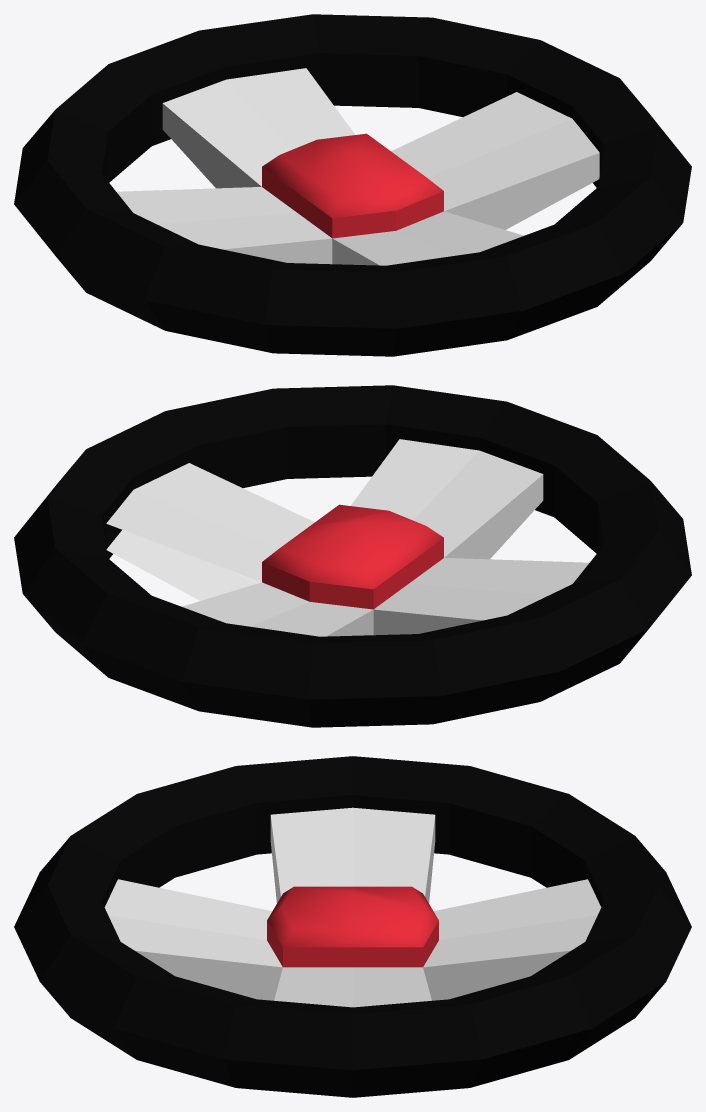
Rendered from steering.fbx.
The picture shows the model from 3 angles, top to bottom: view 1: azimuth 30°, elevation 25°; view 2: azimuth 150°, elevation 25°; view 3: azimuth 270°, elevation 25°; orthographic projection.
Visible parts, largest first — view 1: Torus; view 2: Torus; view 3: Torus.
Part boxes in pixels (x1,y1,x2,y2): Torus: (14, 14, 691, 356); Torus: (14, 385, 691, 727); Torus: (14, 756, 691, 1097).
Size of the model in its own units: 0.56 by 0.0973 by 0.56.
